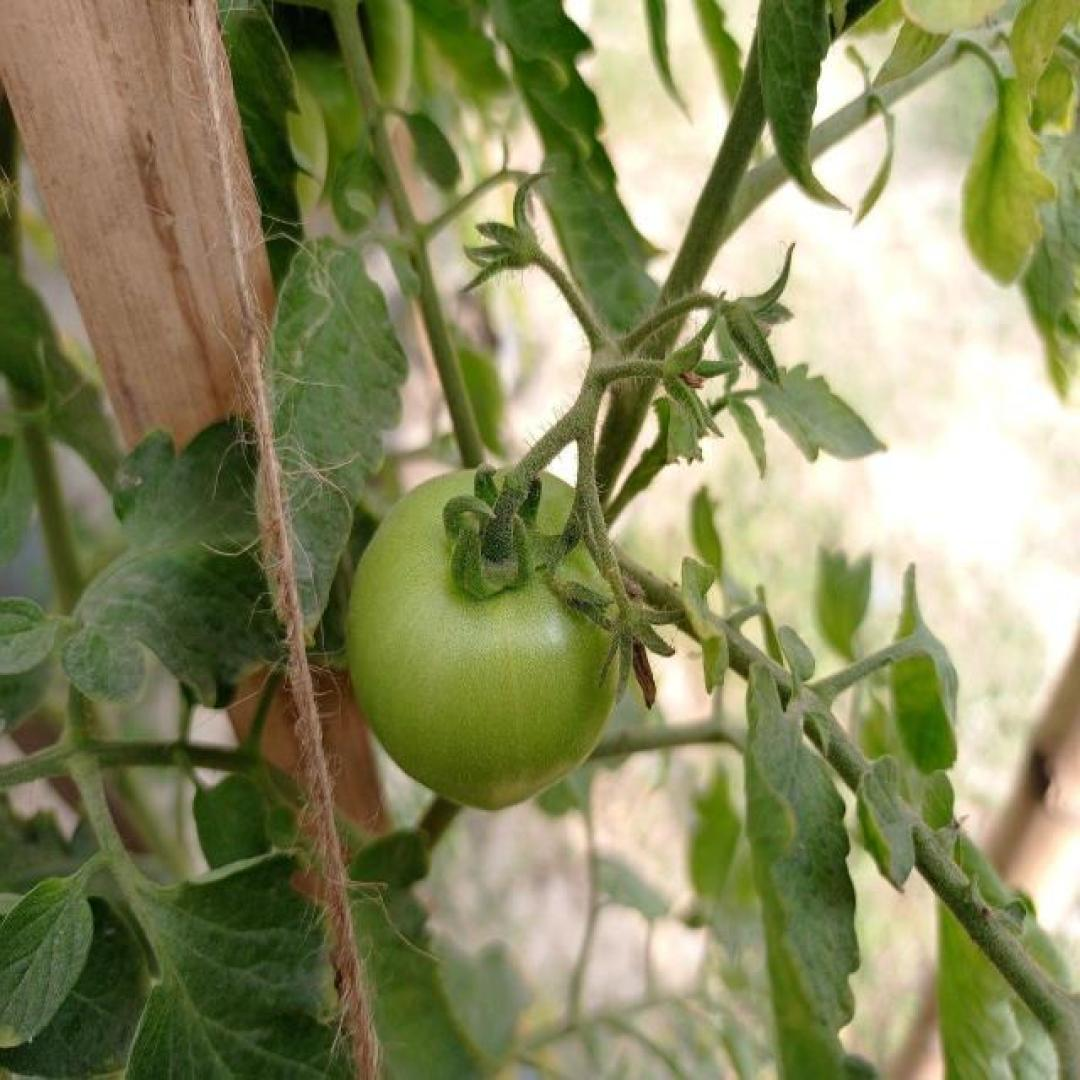mentah: (344, 461, 621, 810)
